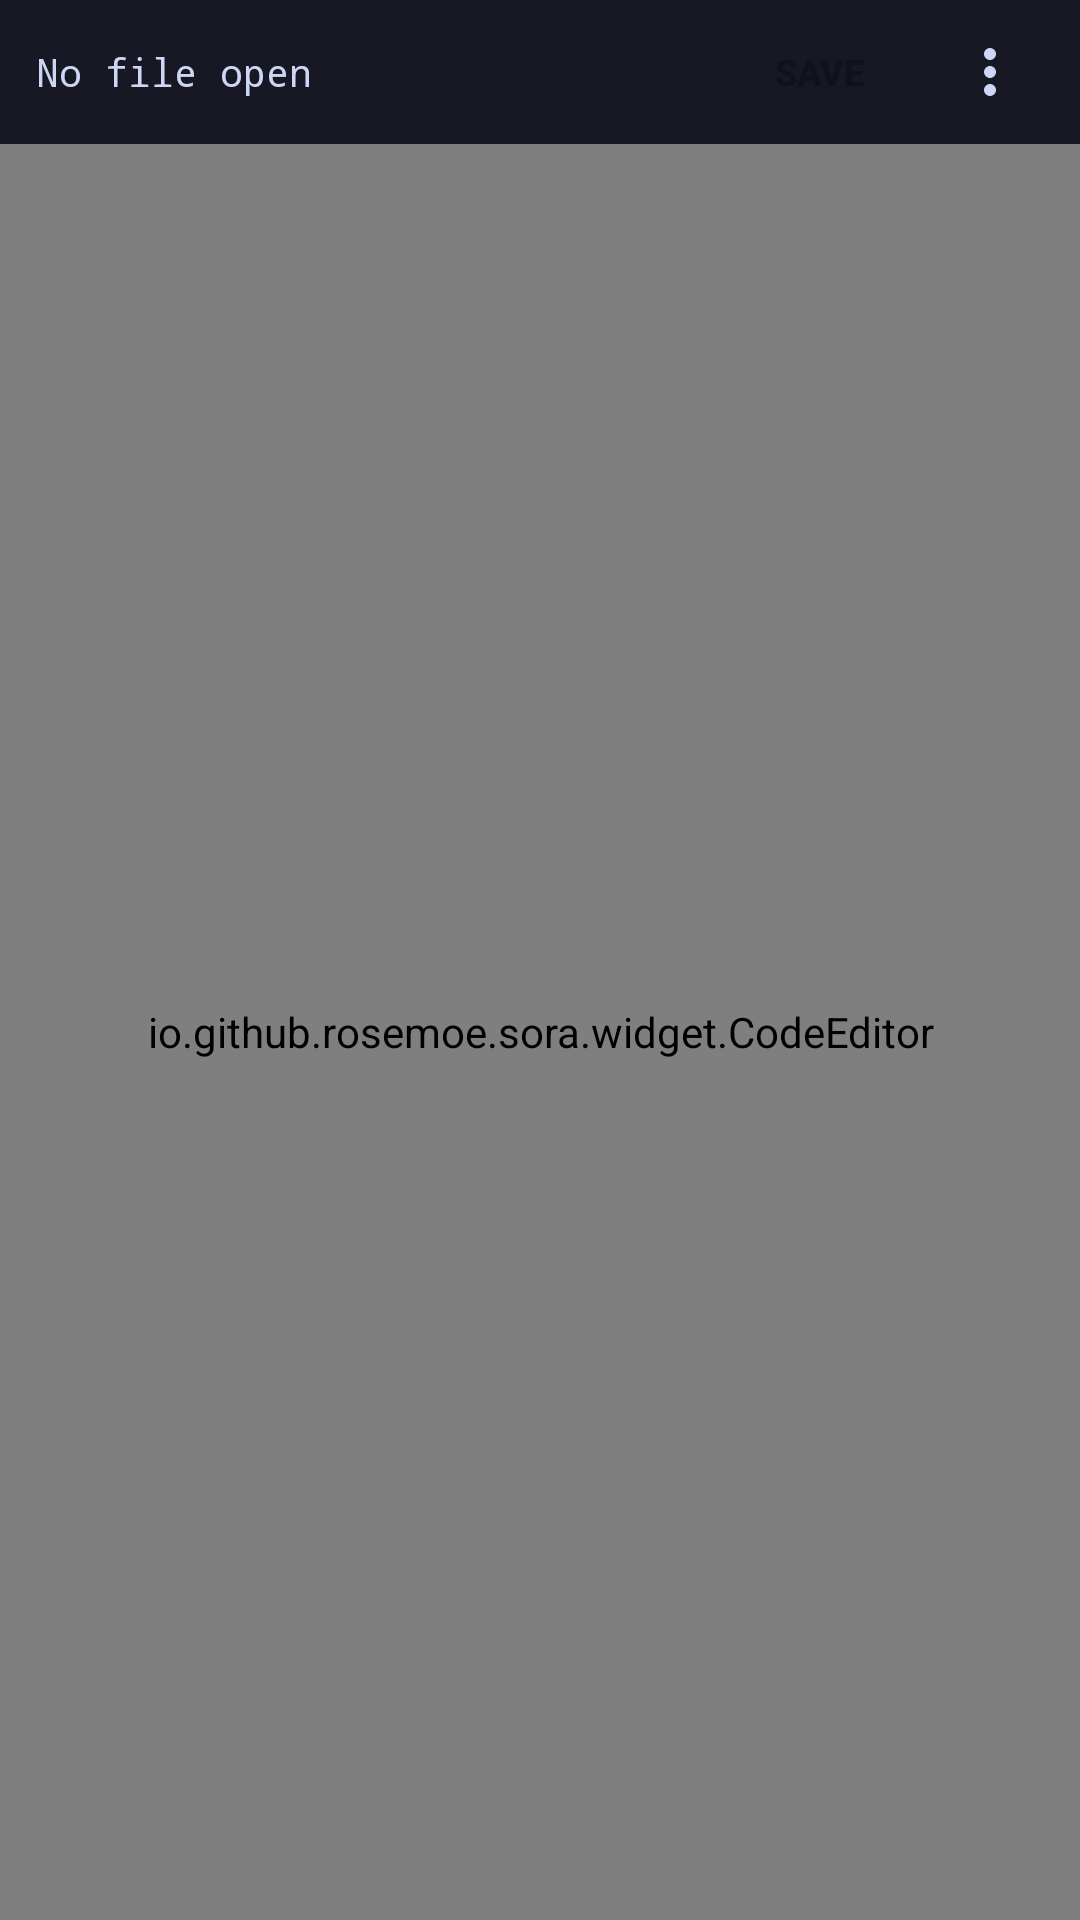

Named icons in this screenshot (1080*1920) and their centers, point (x, y):
More options: point (990, 72)
